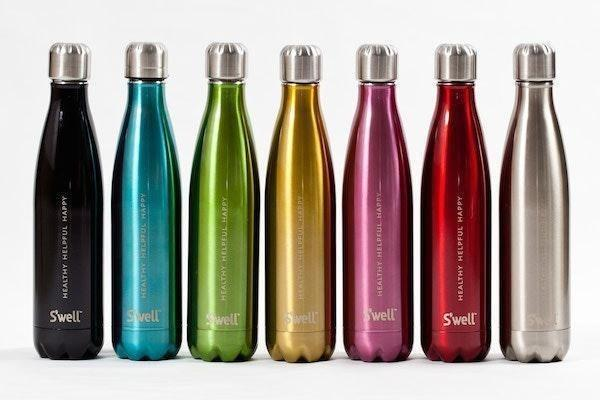gym bottle: (494, 38, 574, 368), (107, 38, 186, 367), (338, 41, 417, 367), (29, 42, 107, 364), (263, 40, 339, 368), (417, 41, 493, 367), (188, 40, 262, 366)
